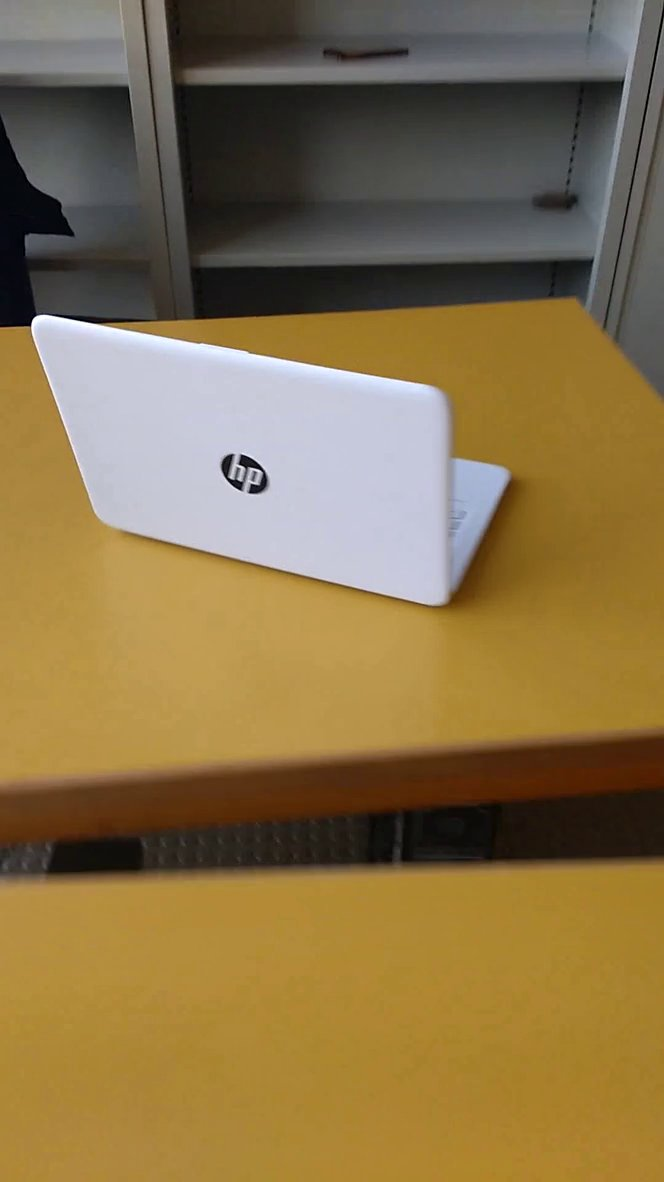laptop: (26, 302, 531, 617)
